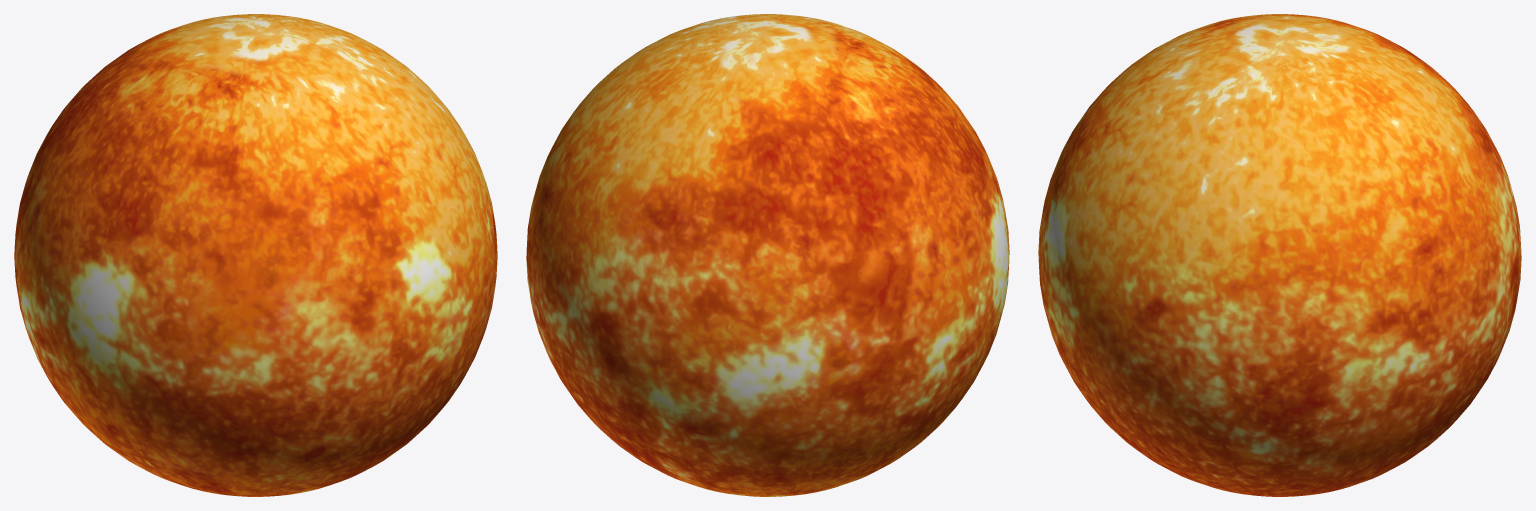
File: sun.glb
3 views of the same model, side by side, from view 1: azimuth 30°, elevation 25°; view 2: azimuth 150°, elevation 25°; view 3: azimuth 270°, elevation 25° (orthographic).
Visible parts, largest first — view 1: Sphere.001; view 2: Sphere.001; view 3: Sphere.001.
Part boxes in pixels (left/top/right/bottom): Sphere.001: left=14, top=14, right=497, bottom=496; Sphere.001: left=526, top=14, right=1009, bottom=496; Sphere.001: left=1038, top=14, right=1521, bottom=496.
Bounding box in the file's own units: 2.02 × 2.02 × 2.02.
1 material, 1 textured.
